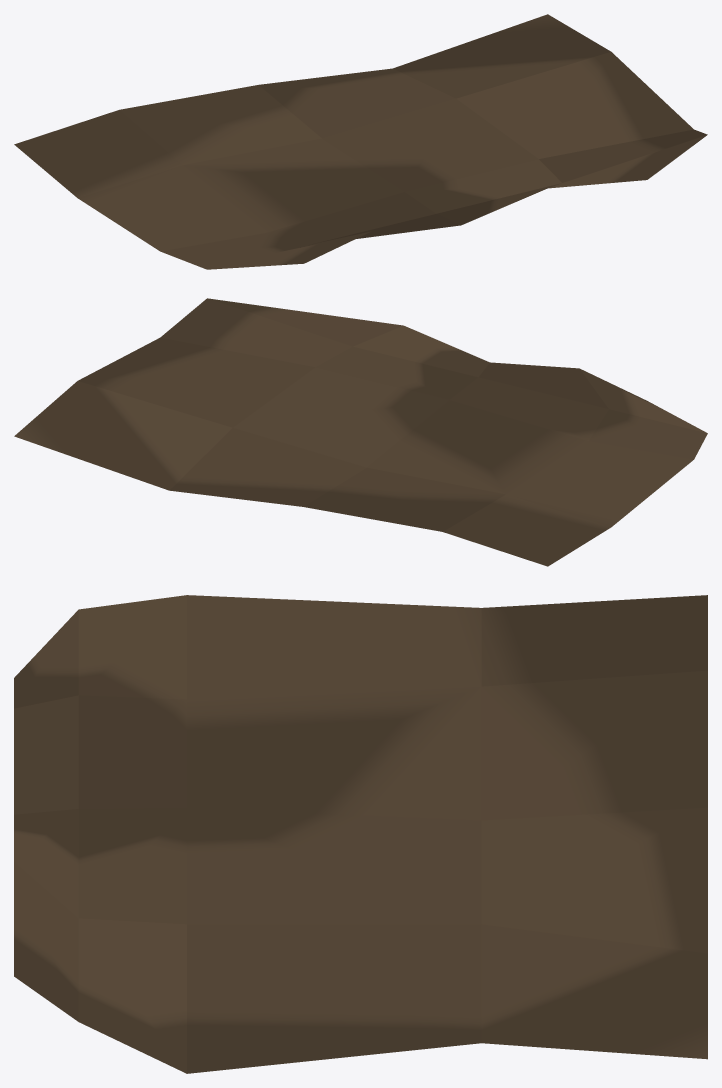
File: SM_Prop_Surgical_Table_01_Insert_01.fbx
3 views of the same model, one above another, from view 1: azimuth 30°, elevation 25°; view 2: azimuth 150°, elevation 25°; view 3: azimuth 270°, elevation 25° (orthographic). The views are drawn at different scales.
Visible parts, largest first — view 1: SM_Prop_Surgical_Table_01_Insert_01; view 2: SM_Prop_Surgical_Table_01_Insert_01; view 3: SM_Prop_Surgical_Table_01_Insert_01.
Boxes of the visible parts, box(x1,y1,x2,y2) form: SM_Prop_Surgical_Table_01_Insert_01: box(14, 14, 707, 269); SM_Prop_Surgical_Table_01_Insert_01: box(14, 298, 707, 566); SM_Prop_Surgical_Table_01_Insert_01: box(14, 595, 707, 1073).
Size of the model in its own units: 82.7 by 4.78 by 52.25.
